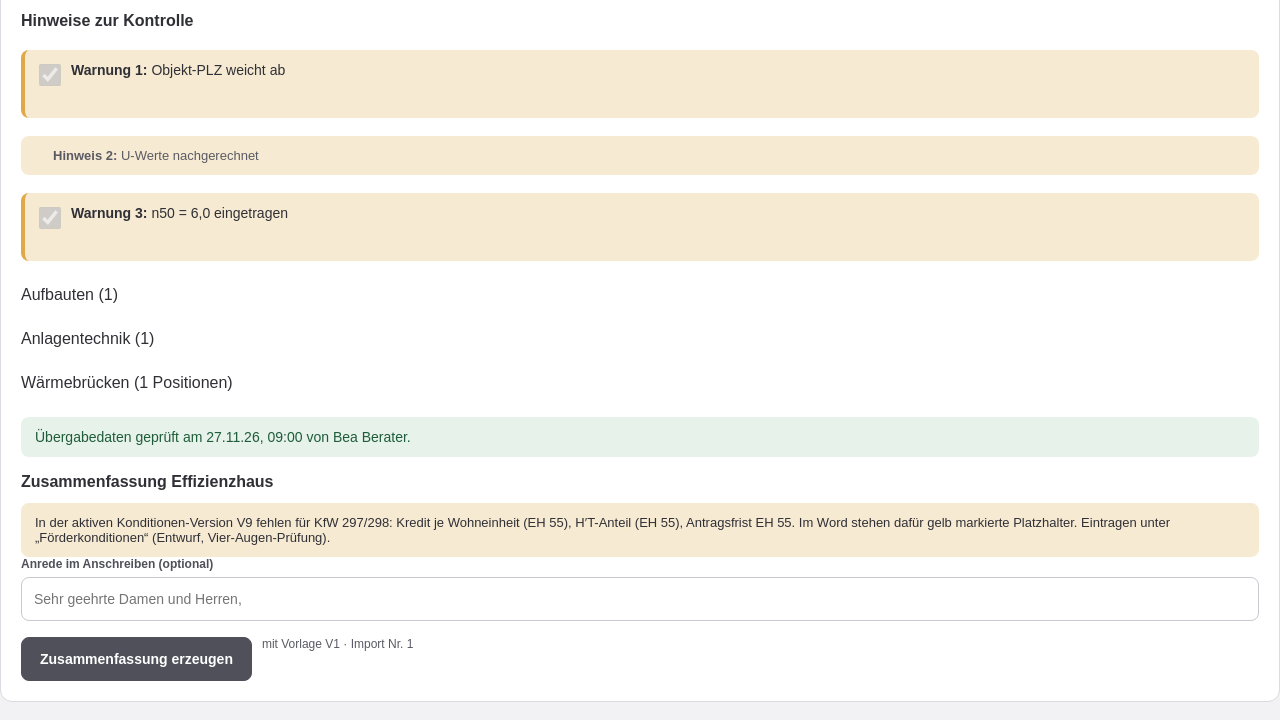
Test: Energieberechnung in der Projektakte › Zusammenfassung erzeugen: Anrede wird gesendet, Platzhalter werden genannt
The width and height of the screenshot is (1280, 720).
(page scrolled)
In the field labelled "Anrede im Anschreiben (optional)": point(640, 599) [21,577,1259,621], type "Sehr geehrte Frau Testbauherr,"
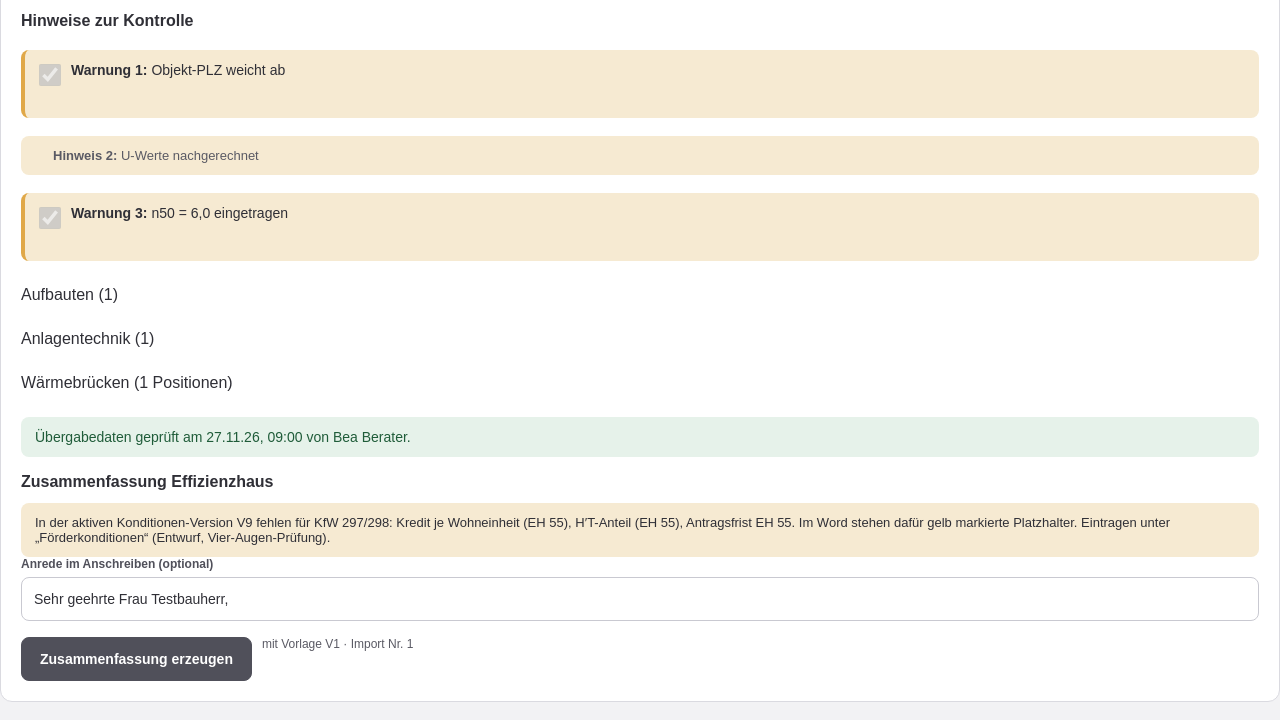
Click the button "Zusammenfassung erzeugen": point(136, 659) [21,637,252,681]
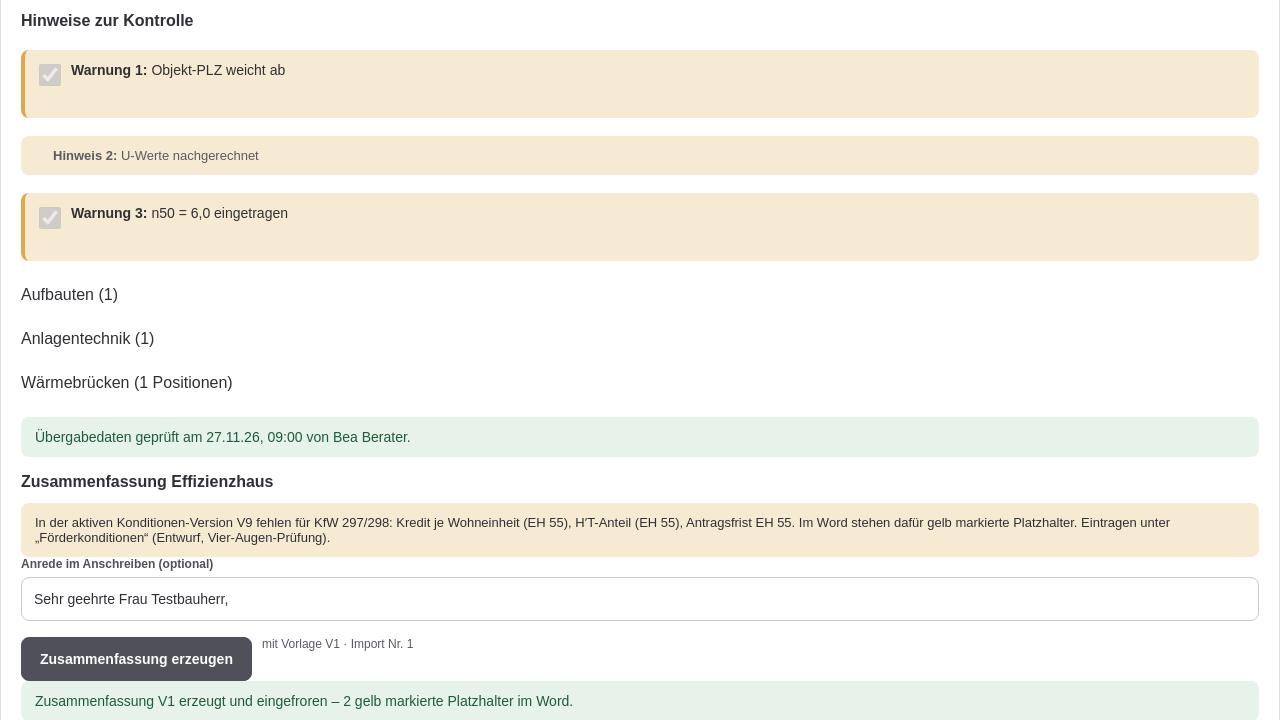
Now the text "Zusammenfassung V1 erzeugt und eingefroren – 2 gelb markierte Platzhalter" is shown, box [35,693,573,709]
